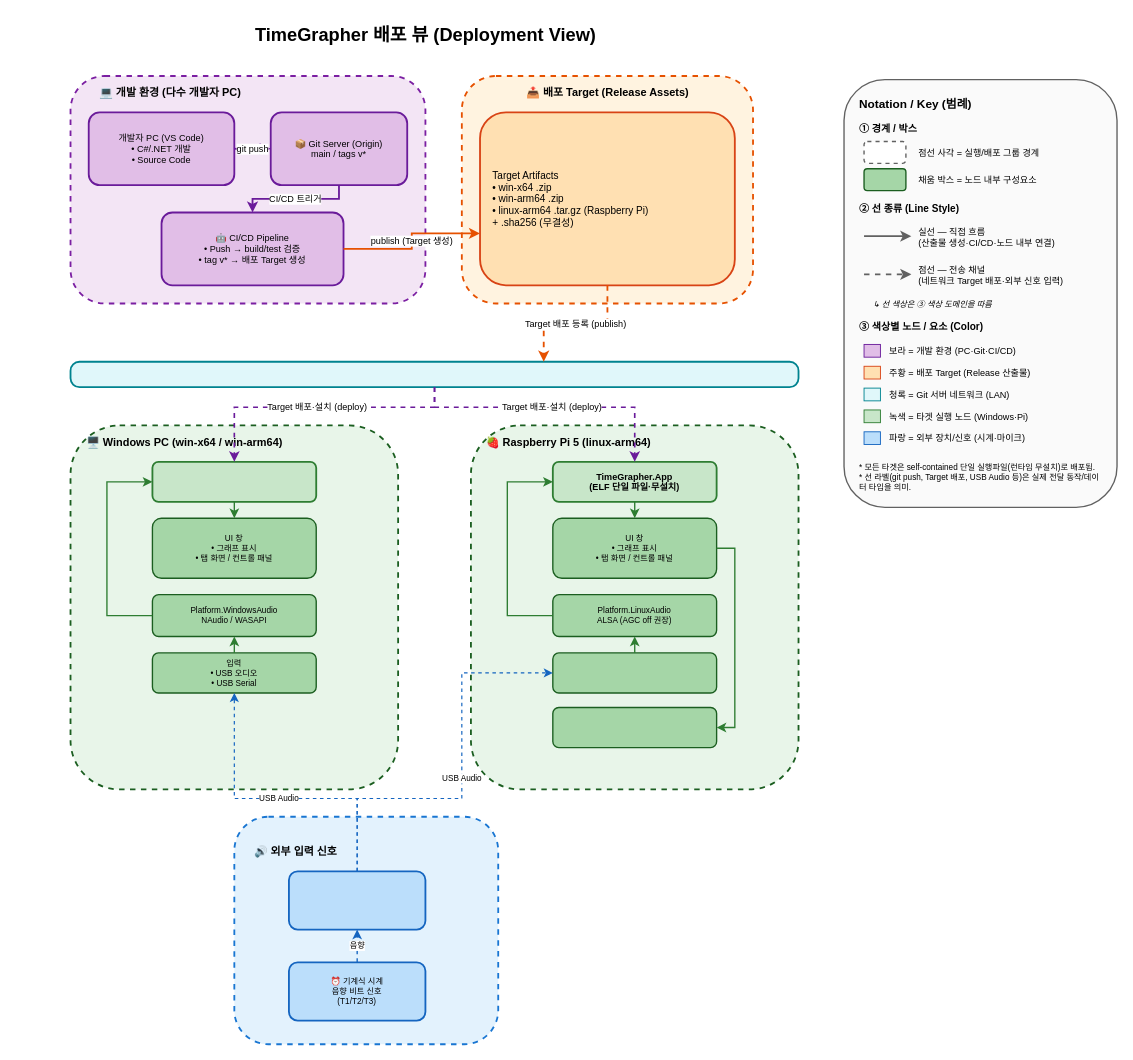
Some shapes in this 1133 by 1060 pixel diagram are drawn without their labels. The box of each missing label's shape, as (x1, y1, x2, y2) in pixels:
8인치 터치스크린 HDMI + USB: (552, 706, 717, 748)
TimeGrapher.App.exe (단일 실행파일·무설치): (151, 460, 317, 502)
입력 • ALSA 오디오 • USB Serial: (552, 652, 717, 693)
🌐 Git 서버 네트워크 (LAN) — Target 배포 채널: (69, 360, 799, 388)
🎙️ 마이크/픽업 음향 → 전기신호: (288, 870, 426, 930)
